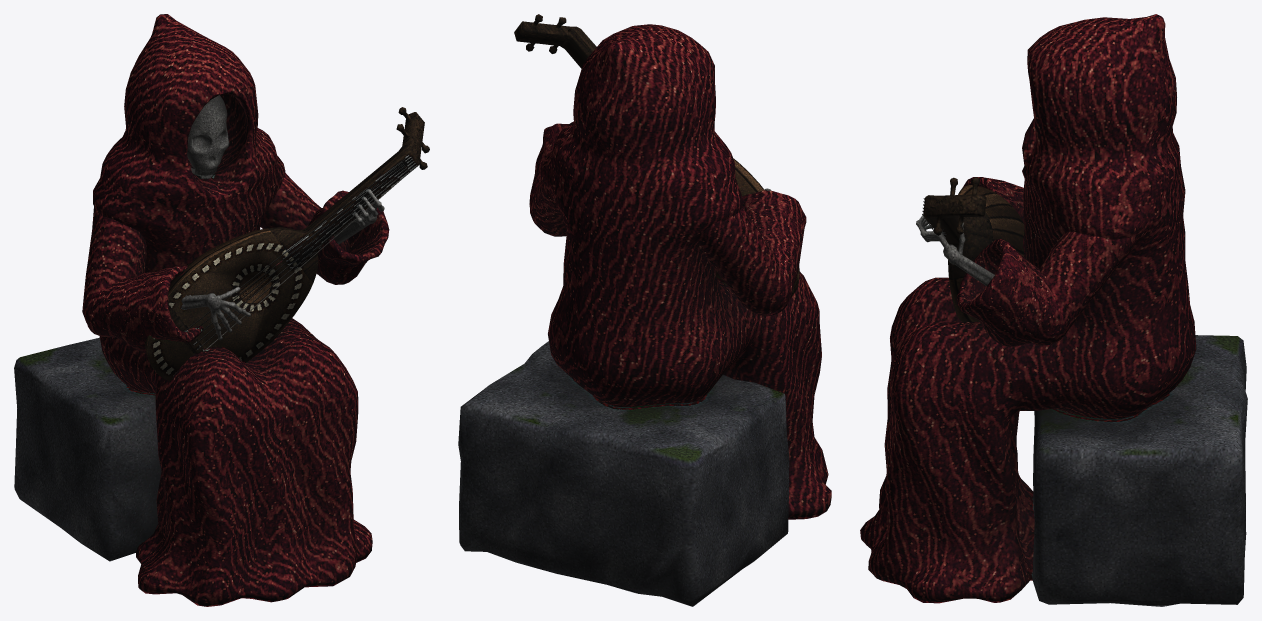
File: GraveMinstrel.fbx
3 renders of one model, left to right at view 1: azimuth 30°, elevation 25°; view 2: azimuth 150°, elevation 25°; view 3: azimuth 270°, elevation 25°, orthographic. The views are drawn at different scales.
Visible parts, largest first — view 1: Body, Lute, ArmLowerR, ArmUpperR, ArmLowerL, Head, ArmUpperL; view 2: Body, ArmUpperR, ArmLowerR, Lute, ArmUpperL, ArmLowerL; view 3: Body, ArmLowerL, Lute, ArmUpperL, ArmLowerR.
Part boxes in pixels (x1,y1,x2,y2): Body: [14, 14, 372, 606]; Lute: [145, 107, 429, 381]; ArmLowerR: [87, 265, 250, 353]; ArmUpperR: [82, 206, 146, 337]; ArmLowerL: [308, 189, 389, 284]; Head: [187, 95, 229, 175]; ArmUpperL: [260, 172, 349, 252]; Body: [458, 24, 831, 606]; ArmUpperR: [698, 207, 793, 314]; ArmLowerR: [742, 188, 806, 315]; Lute: [514, 14, 799, 297]; ArmUpperL: [530, 179, 566, 236]; ArmLowerL: [529, 123, 568, 208]; Body: [860, 14, 1247, 606]; ArmLowerL: [916, 215, 1063, 346]; Lute: [922, 177, 1026, 321]; ArmUpperL: [1031, 231, 1137, 345]; ArmLowerR: [962, 177, 1023, 222].
Bounding box in the file's own units: 95.21 × 148 × 97.11.
Materials: 1 (1 with a texture image).
